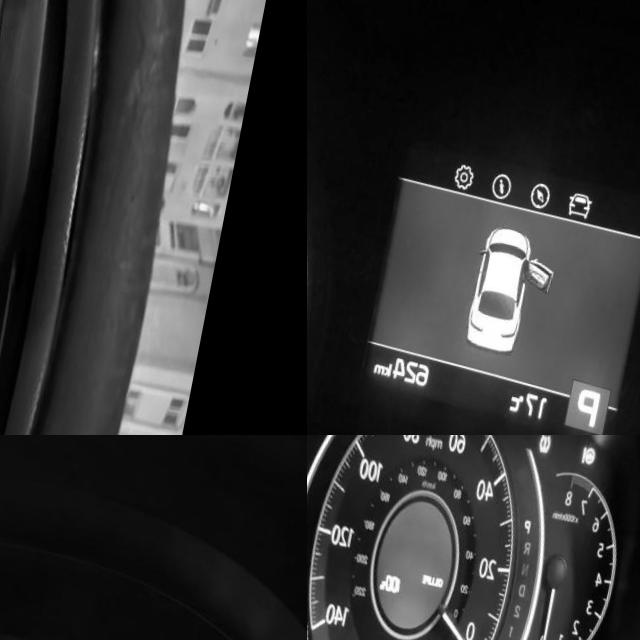LaneCenteringOff: (109, 626, 129, 640)
